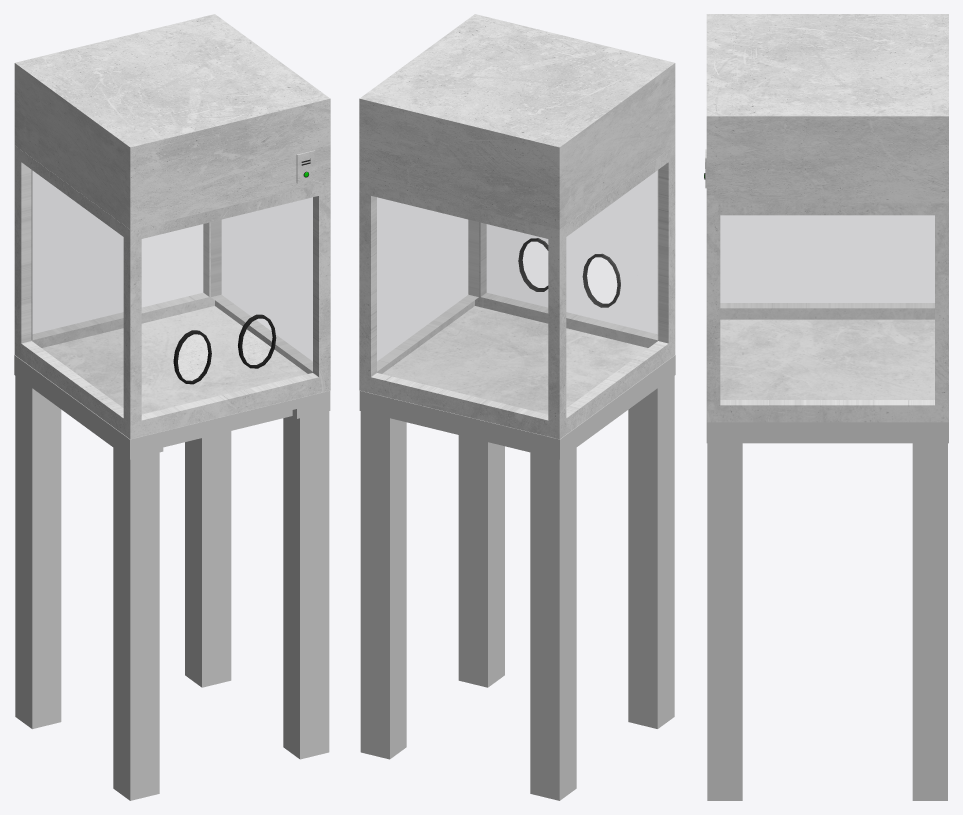
The model's file is lEMARI asam2.fbx.
3 renders of one model, left to right at view 1: azimuth 30°, elevation 25°; view 2: azimuth 150°, elevation 25°; view 3: azimuth 270°, elevation 25°, orthographic. The views are drawn at different scales.
Parts seen in each view (by area): view 1: Cube, Plane, Cube.001; view 2: Cube, Plane, Cube.001; view 3: Cube, Cube.001, Plane.
Part boxes in pixels (x1,y1,x2,y2): Cube: (14,145,330,439); Plane: (14,355,330,800); Cube.001: (14,14,330,230); Cube: (359,145,675,439); Plane: (359,355,675,800); Cube.001: (359,14,675,229); Cube: (706,203,948,422); Cube.001: (704,14,948,203); Plane: (706,422,948,800).
Size of the model in its own units: 200 by 624 by 202.
5 materials, 1 textured.
